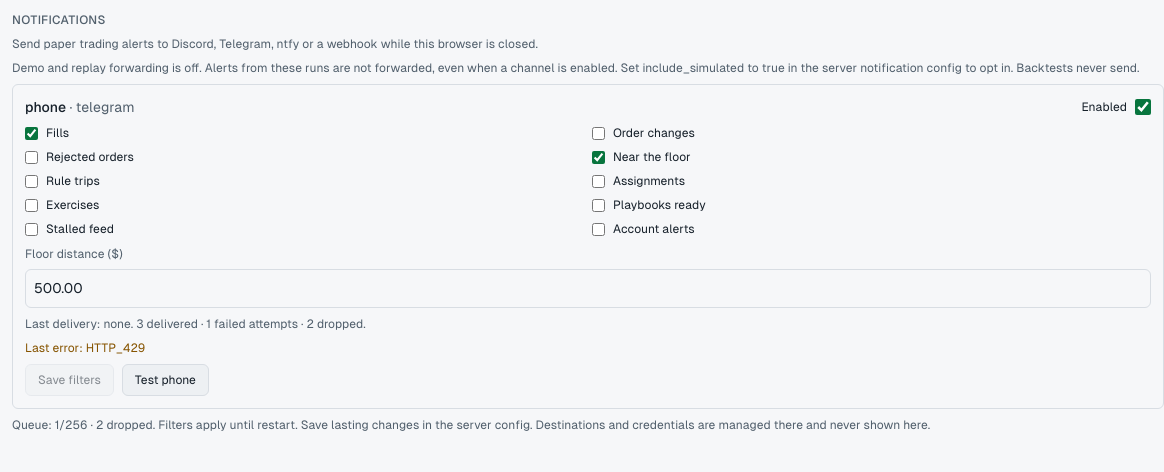
notification settings › saves only nonsecret settings
Step 1. Click the checkbox labelled "Assignments" → (598, 181), box [592, 174, 605, 188]
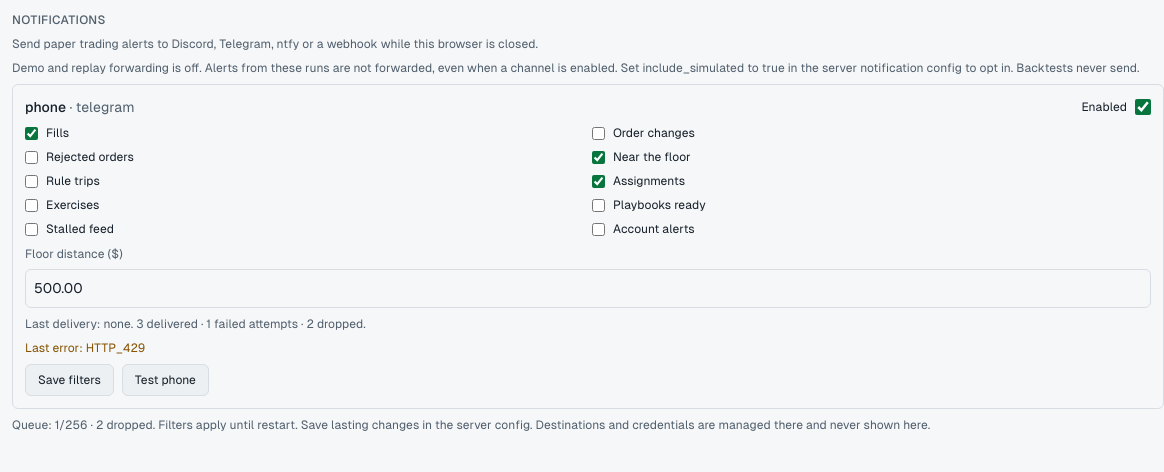
Expected: the button "Save filters" is enabled
Step 2. Click the button "Save filters" → (69, 380), box [25, 364, 114, 396]
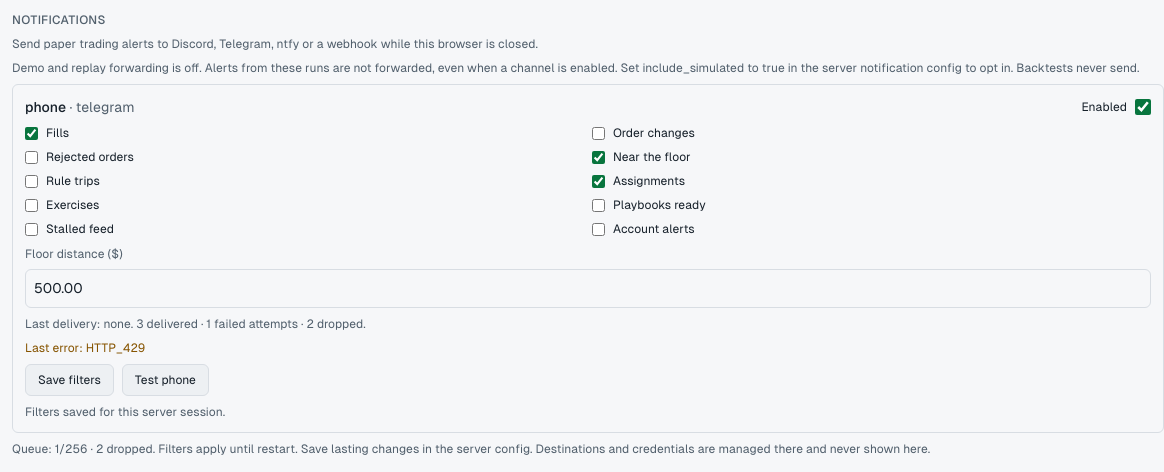
Expected: the text "Filters saved for this server session" is shown, [25, 405, 225, 419]
